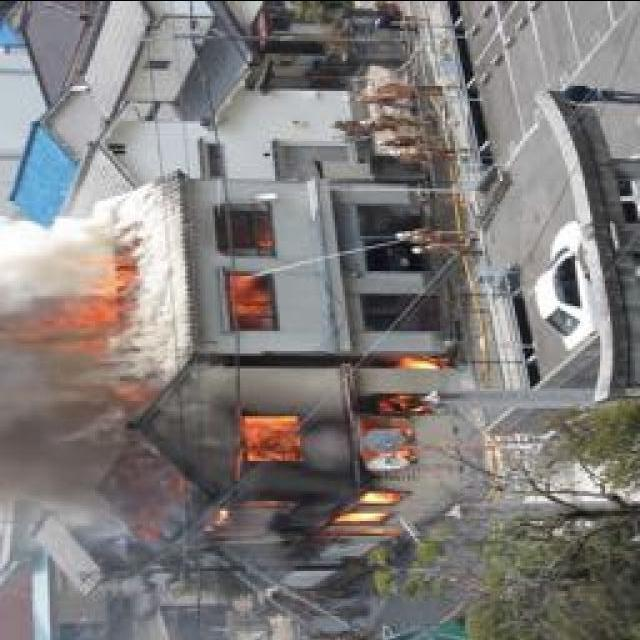Fire: (217, 352, 453, 547), (25, 237, 133, 377), (232, 216, 280, 332)
